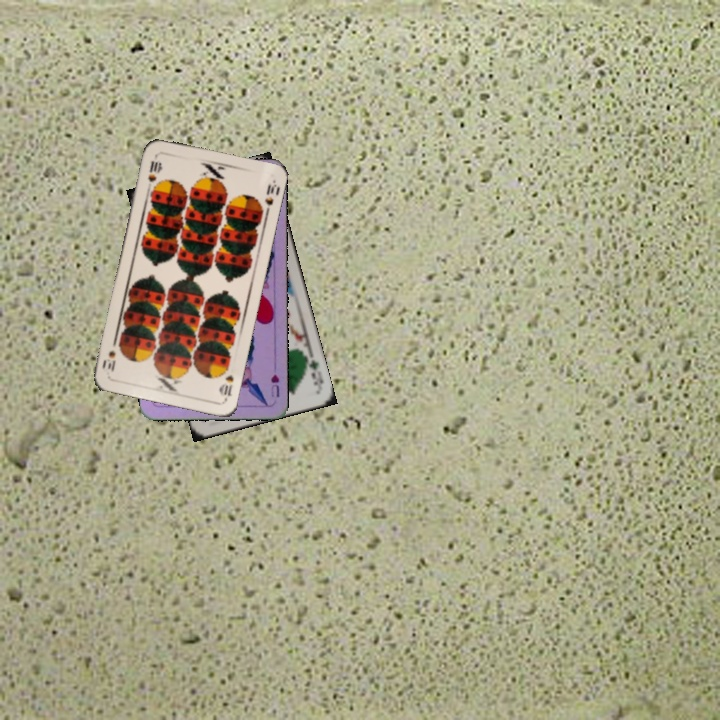GK: (300, 353, 326, 391)
HU: (267, 370, 282, 400)
S10: (144, 157, 163, 193), (216, 371, 236, 398)
